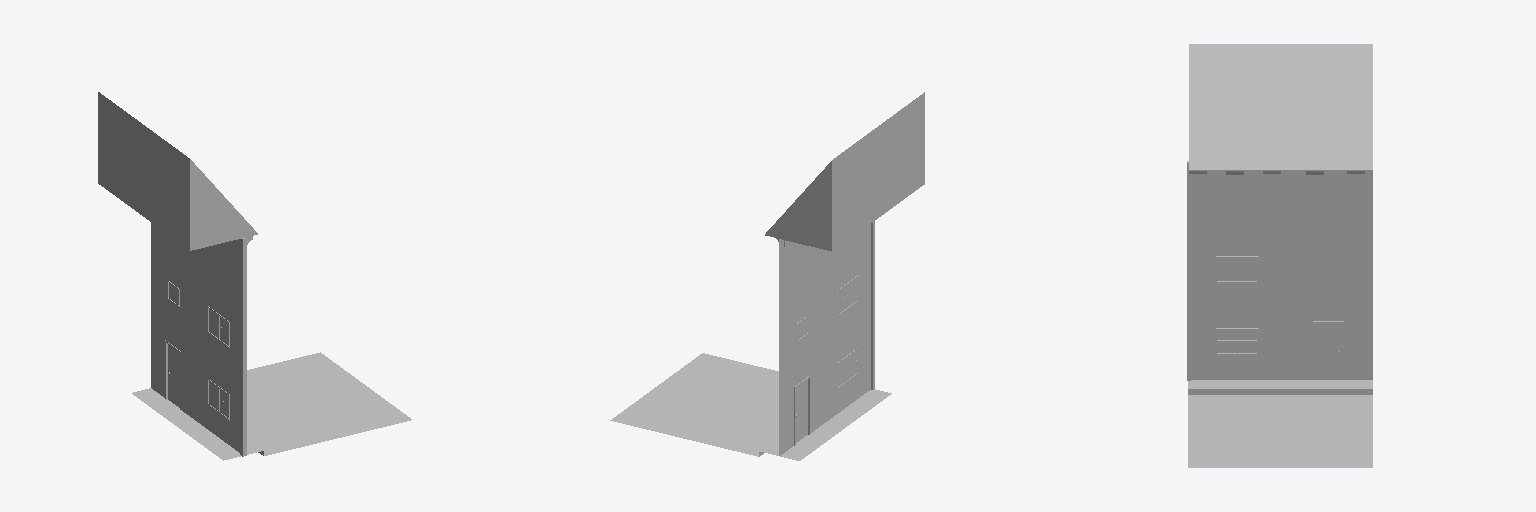
File: house.obj
The picture shows the model from 3 angles: view 1: azimuth 30°, elevation 25°; view 2: azimuth 150°, elevation 25°; view 3: azimuth 270°, elevation 25°; orthographic projection.
Parts seen in each view (by area): view 1: Plane, Plane.026, Plane.010, Plane.006; view 2: Plane, Plane.026, Plane.010, Plane.006; view 3: Plane, Plane.010, Plane.026, Plane.006, Plane.008, Plane.011.
Boxes of the visible parts, box(x1,y1,x2,y2) form: Plane: box(151, 223, 239, 452); Plane.026: box(132, 352, 411, 460); Plane.010: box(98, 92, 257, 250); Plane.006: box(168, 345, 179, 407); Plane: box(779, 224, 870, 455); Plane.026: box(610, 353, 891, 460); Plane.010: box(765, 92, 924, 251); Plane.006: box(796, 380, 807, 442); Plane: box(1191, 170, 1372, 379); Plane.010: box(1189, 44, 1372, 169); Plane.026: box(1188, 380, 1372, 467); Plane.006: box(1315, 323, 1341, 379); Plane.008: box(1217, 330, 1256, 352); Plane.011: box(1217, 258, 1256, 280).
Size of the model in its own units: 8.35 by 11.3 by 6.08.